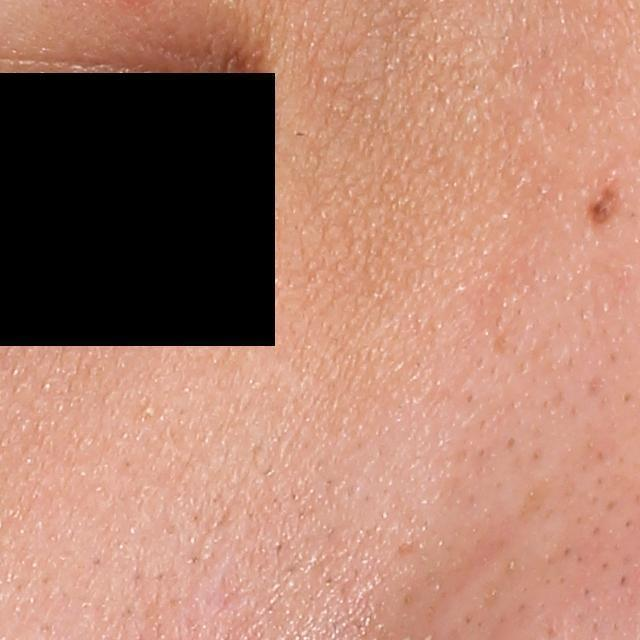comedo: (140, 401, 156, 417)
